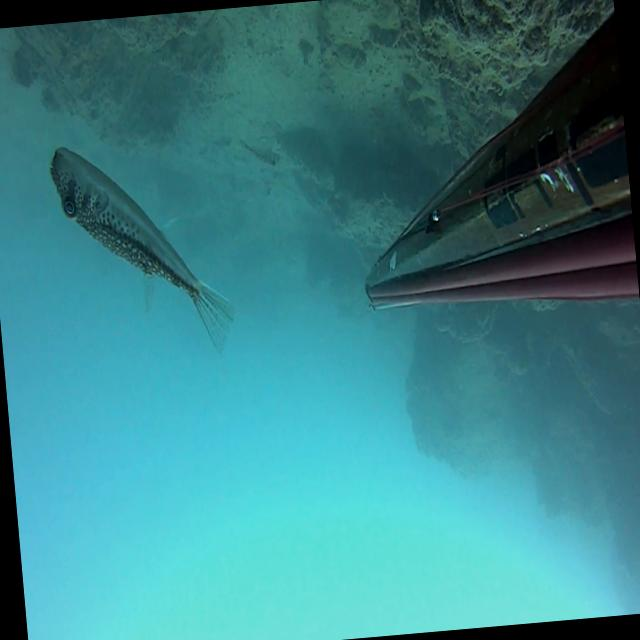Balon Baligi: (45, 128, 239, 368), (246, 142, 280, 166)
